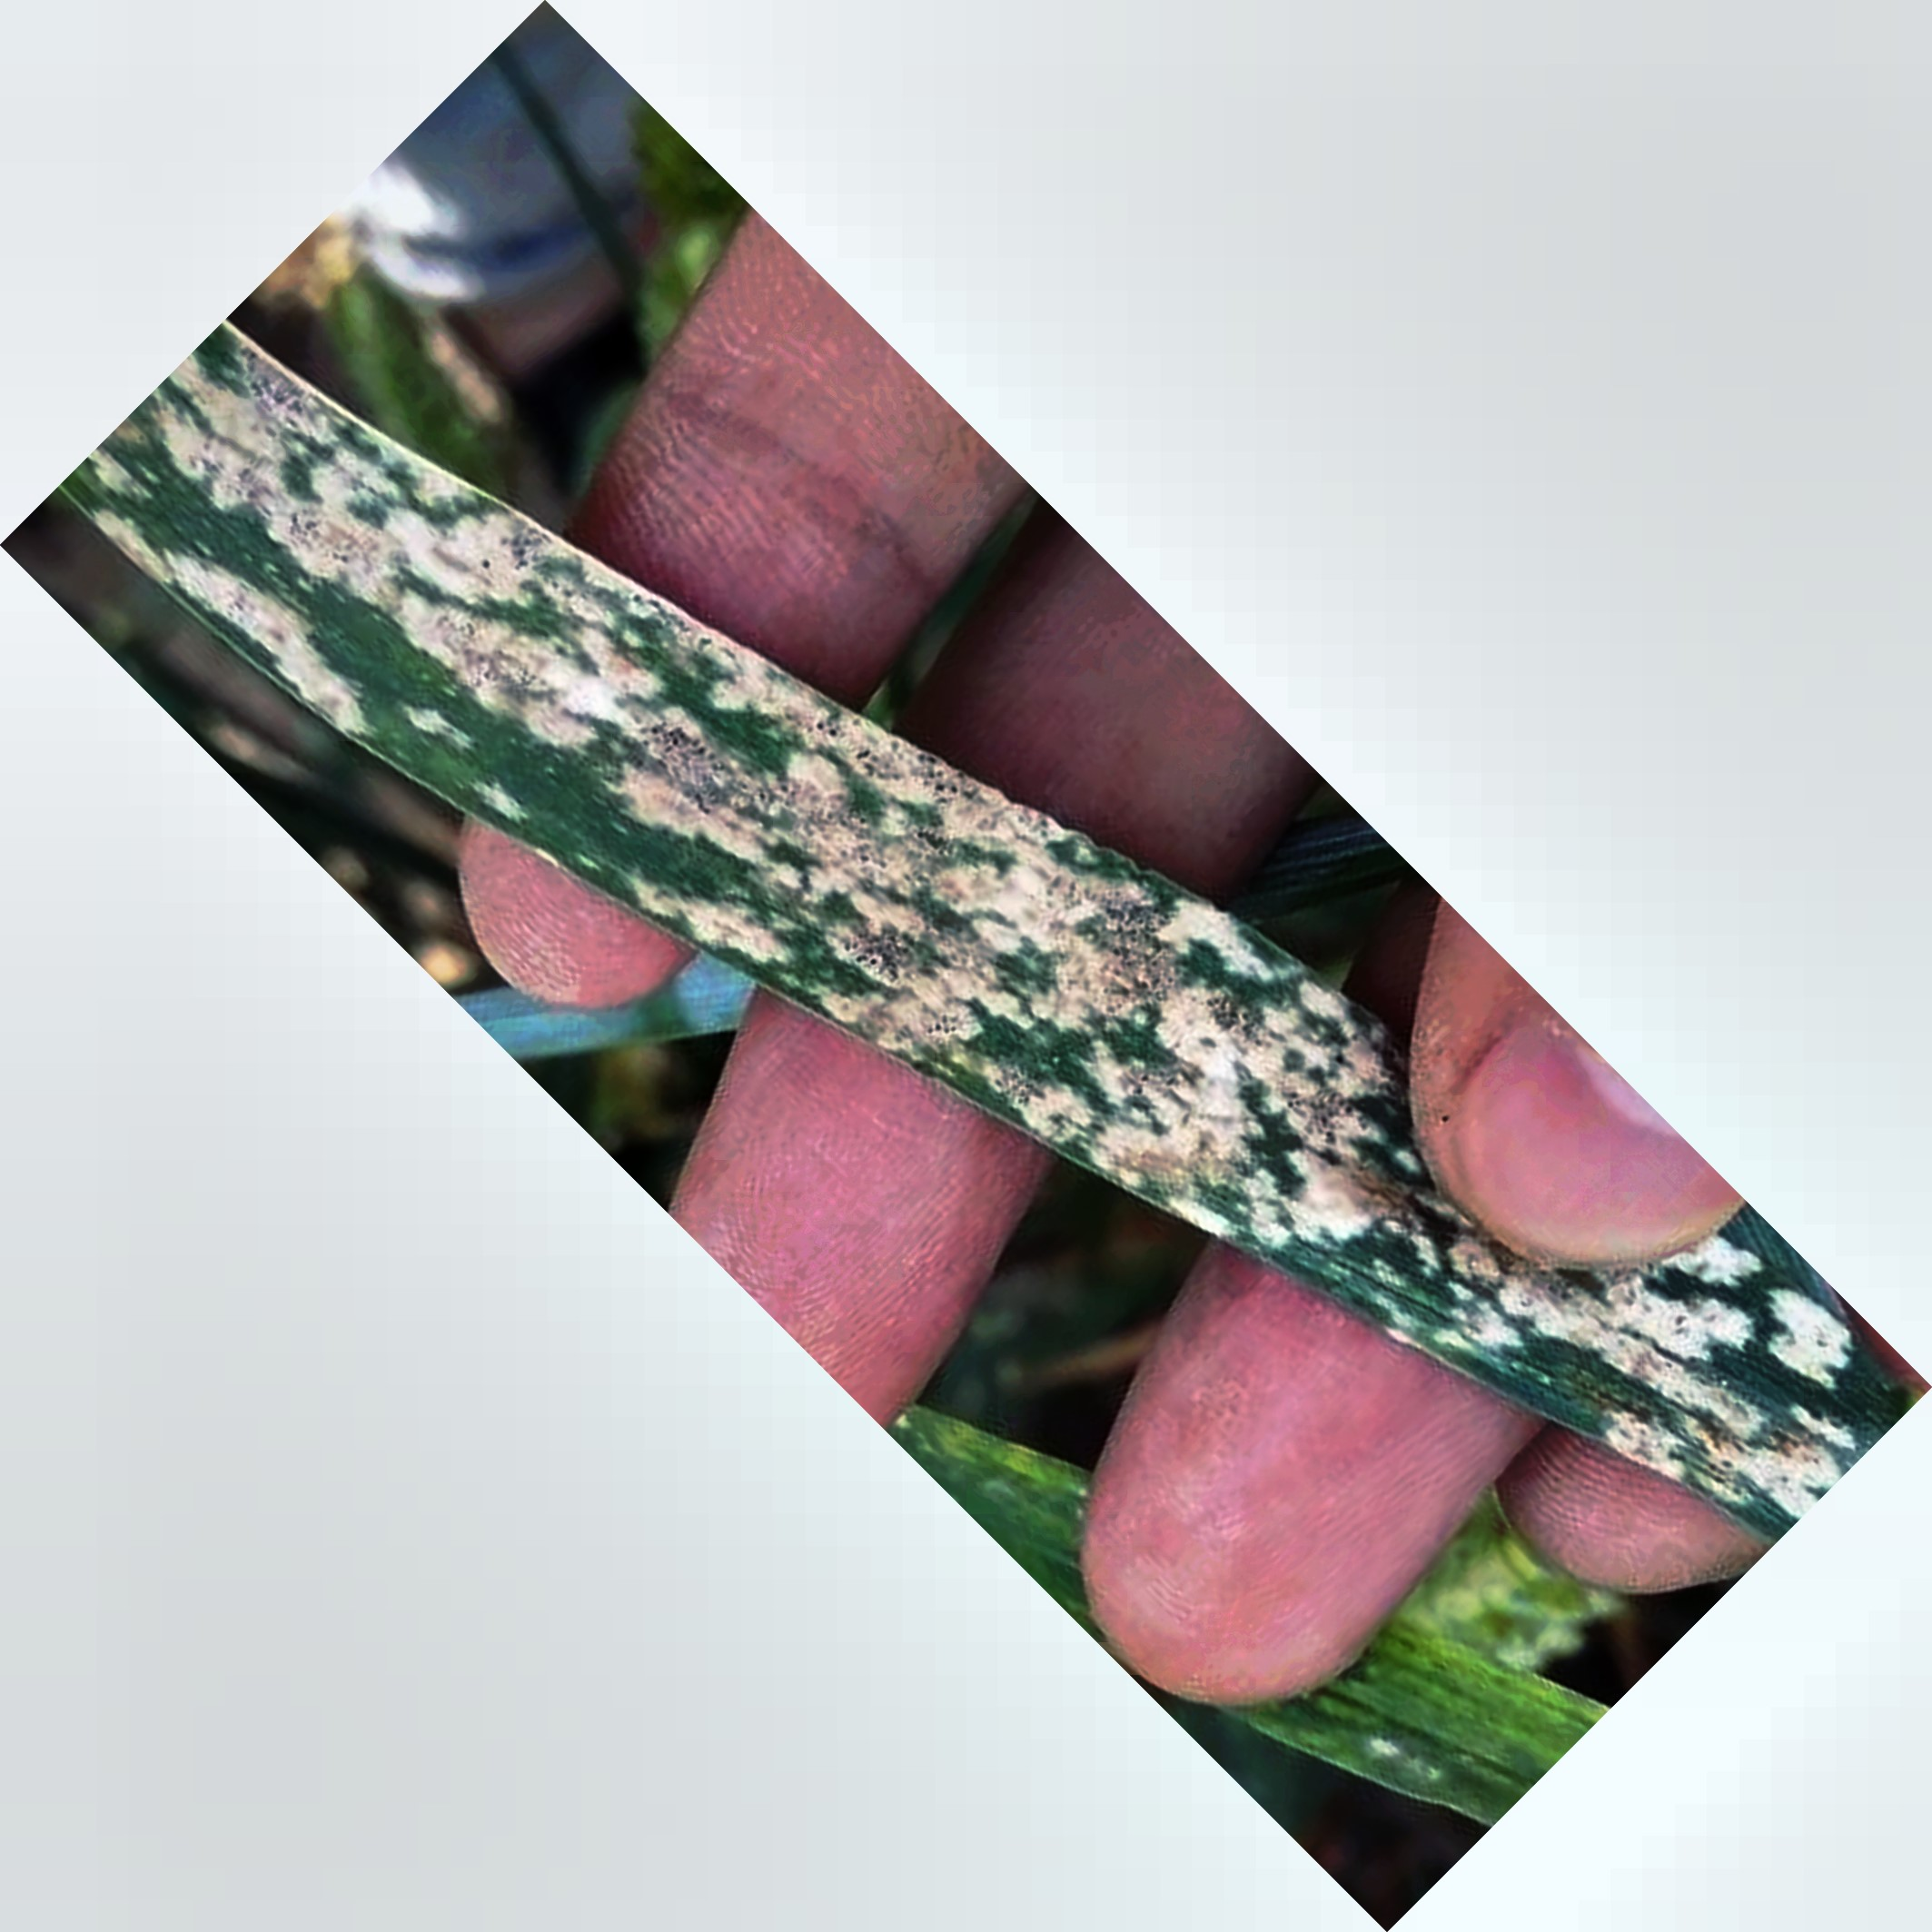Powdery Mildew: (193, 382, 1803, 1453)
